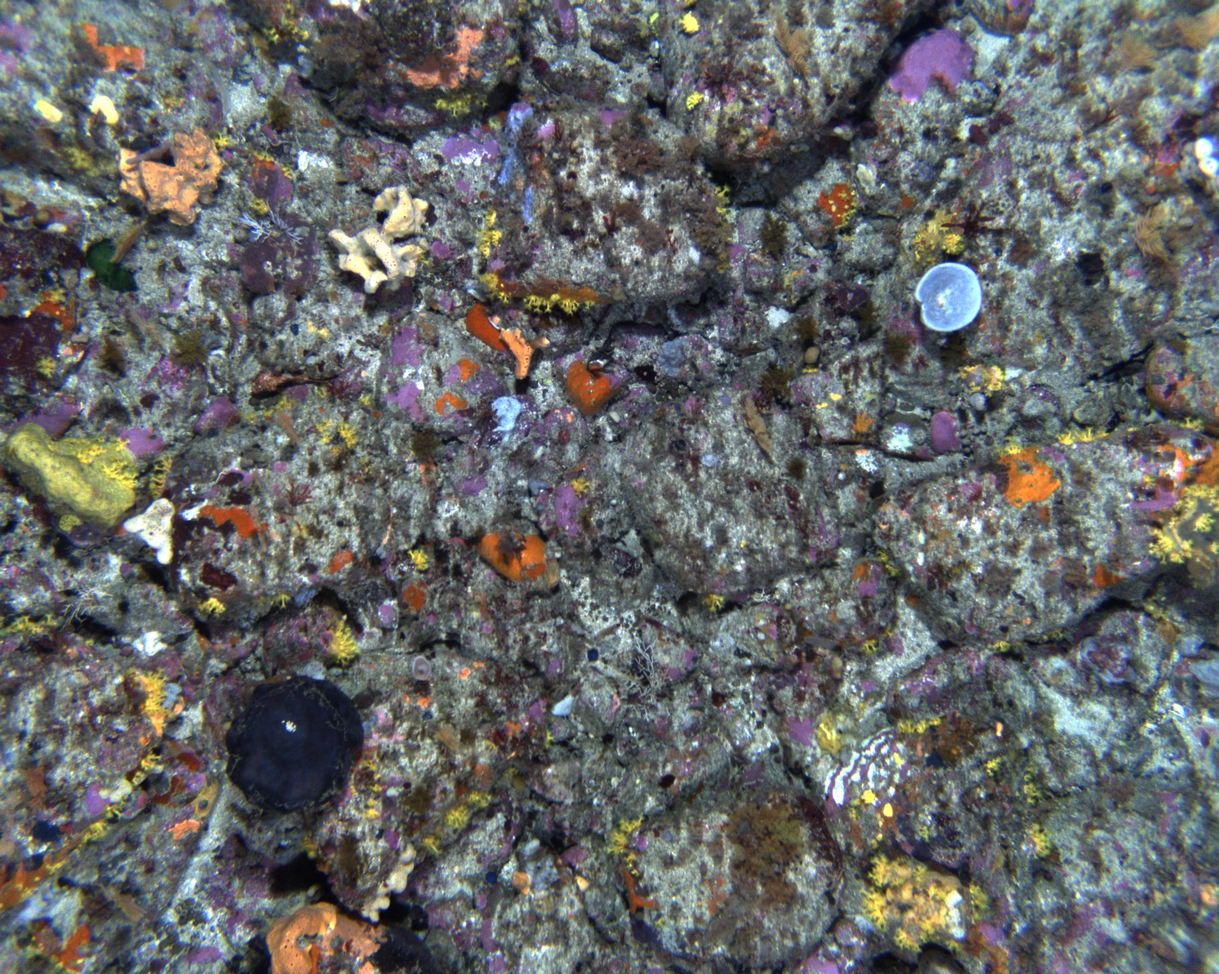Brachionichthyidae: (250, 369, 331, 398)
